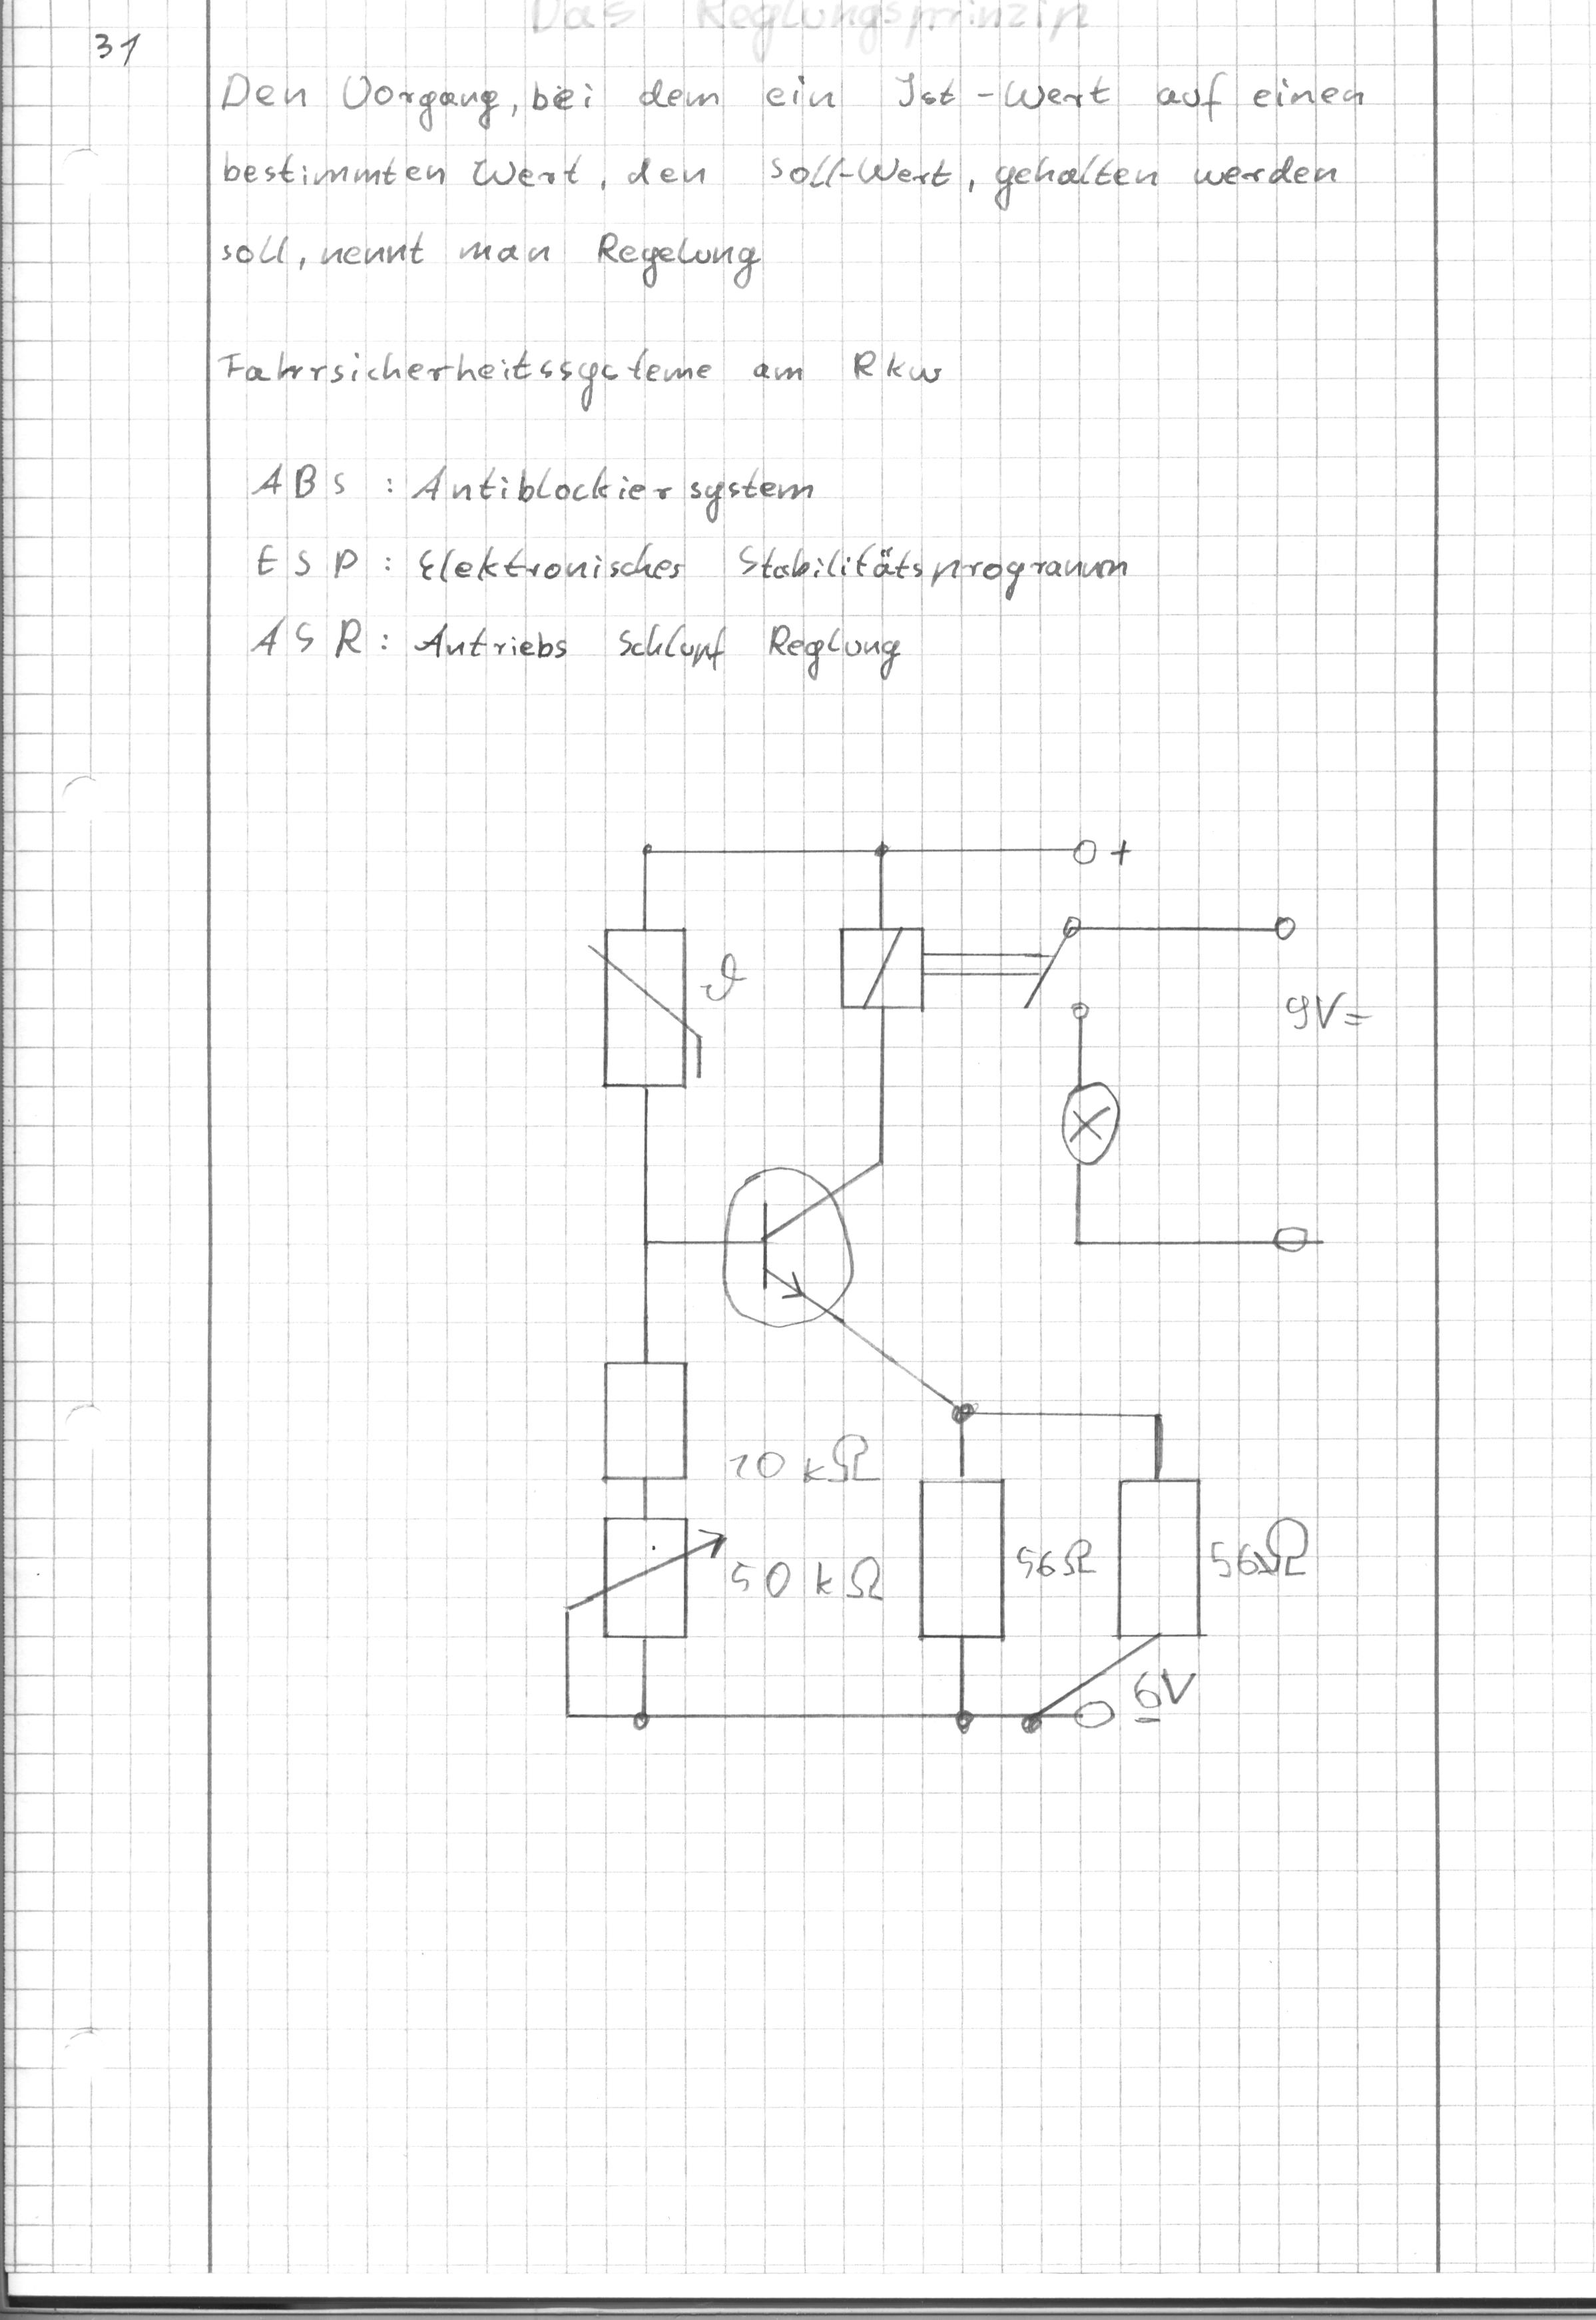word: (213, 52, 1380, 298), (239, 443, 1155, 698), (210, 324, 981, 412)
